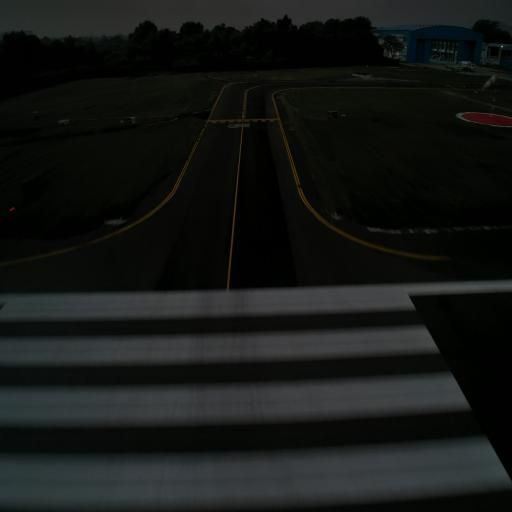on: (7, 201, 17, 217)
